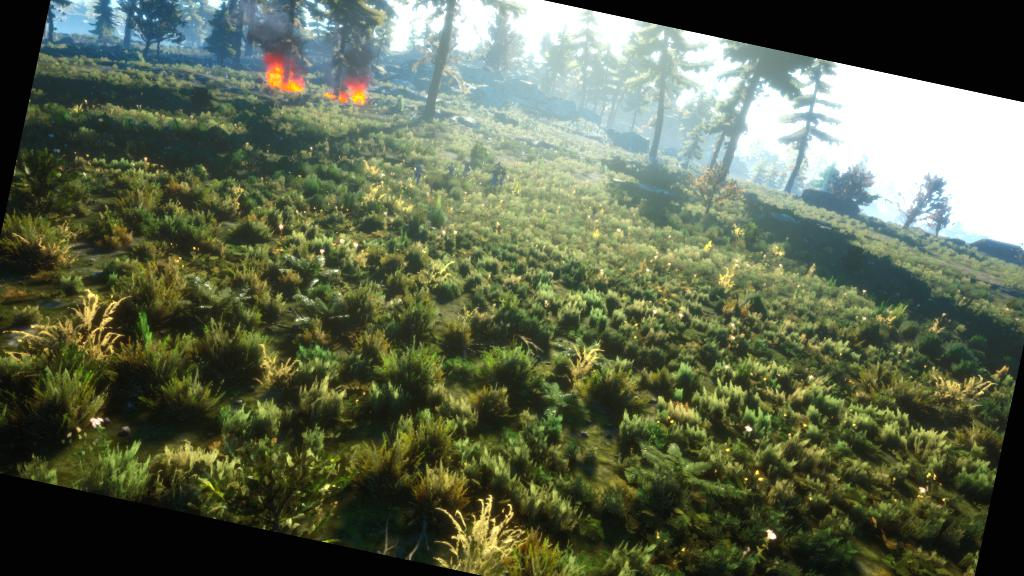Fire: (256, 56, 308, 96), (323, 76, 376, 114)
human: (438, 150, 484, 194), (478, 156, 516, 204), (402, 154, 436, 186)
smoke: (230, 0, 305, 58), (312, 26, 387, 83)
